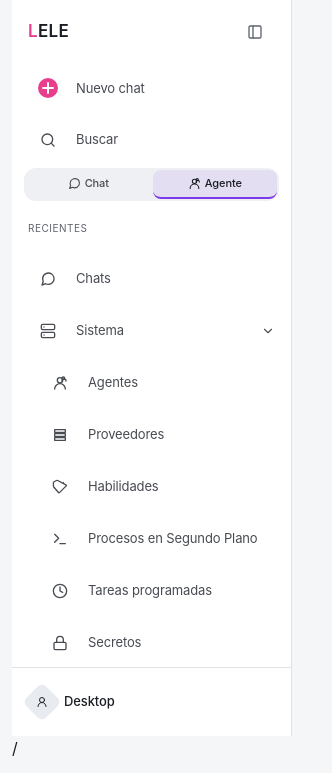
Test case: Sidebar — System subnav (expanded) › clicking the System header collapses then re-opens the group
Check: the element with test id "sidebar-system-nav" is shown, box [32,359,283,667]
Click the button with test id "sidebar-system-toggle". click: (100, 330)
box: [20,307,283,355]
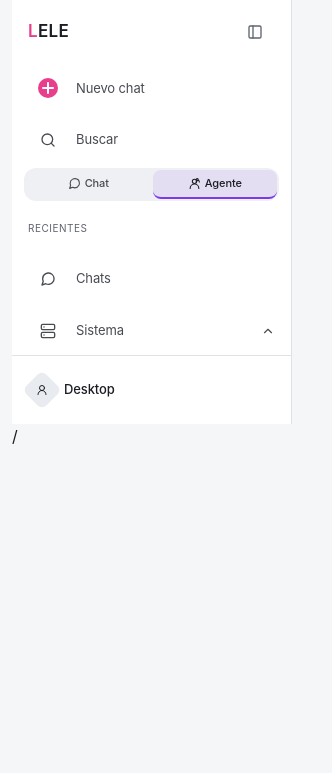
Check: the button with test id "sidebar-system-toggle" is collapsed
Check: the element with test id "sidebar-system-nav" is gone
Check: the button labelled "Habilidades" is gone
Click the button with test id "sidebar-system-toggle". click: (100, 330)
box: [20,307,283,355]
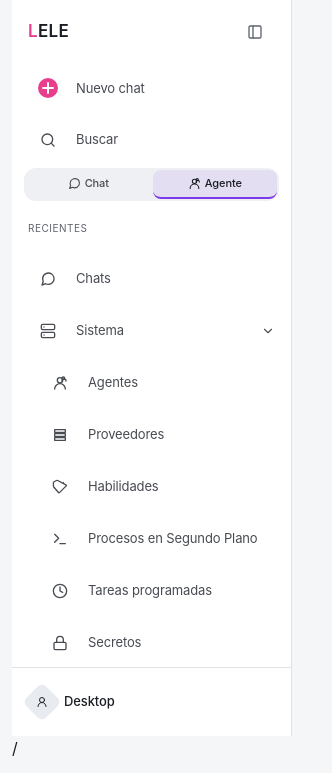
Check: the button with test id "sidebar-system-toggle" is expanded, box [20,307,283,355]
Check: the element with test id "sidebar-system-nav" is shown, box [32,359,283,667]
